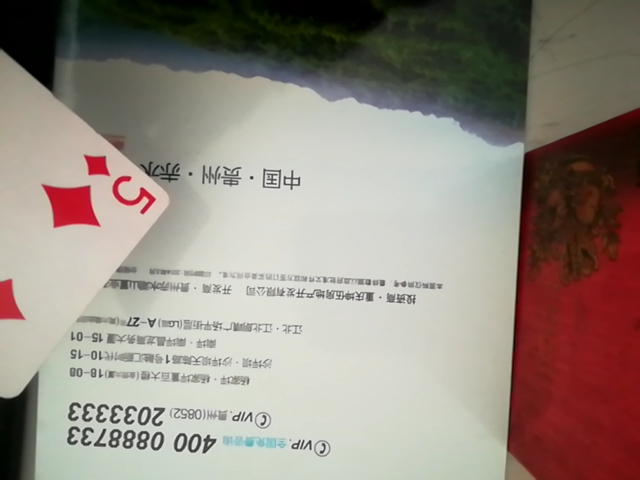fk 5: (0, 0, 182, 426)
